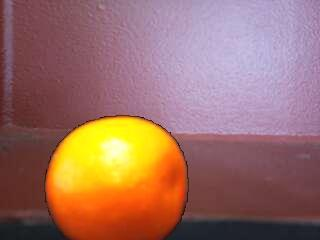Orange: (46, 117, 188, 240)
